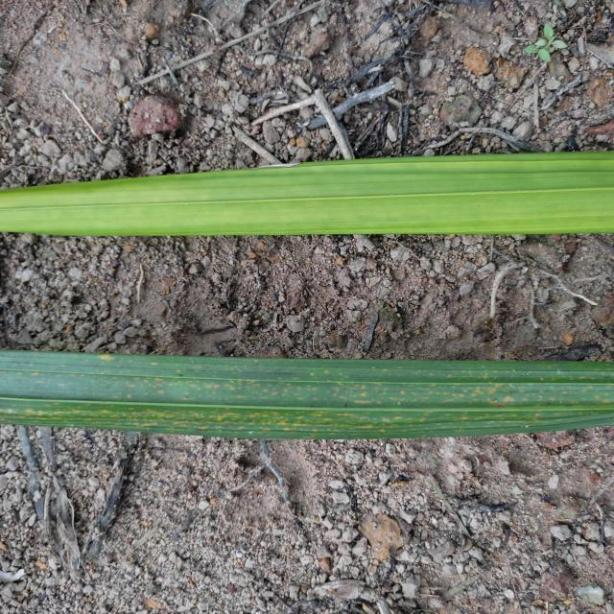nitrogen: (0, 339, 614, 437), (0, 149, 614, 230)
